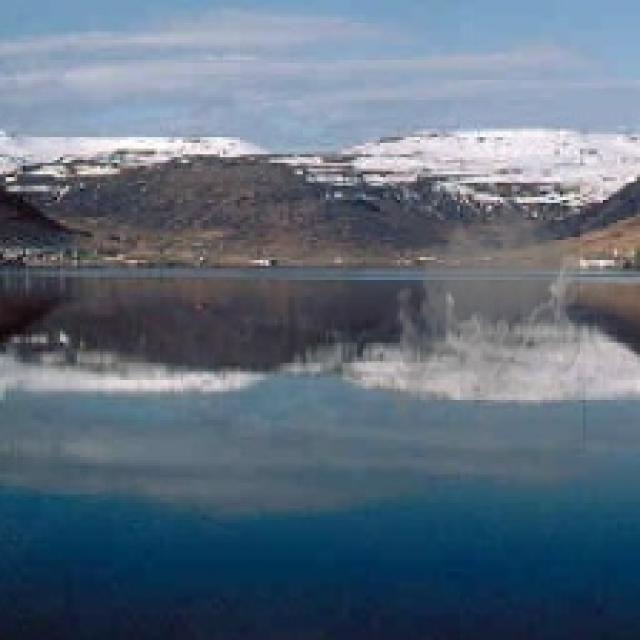smoke: (383, 183, 586, 451)
